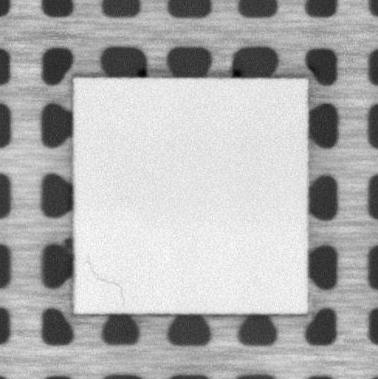DIE_CRACK: (81, 251, 128, 304)
